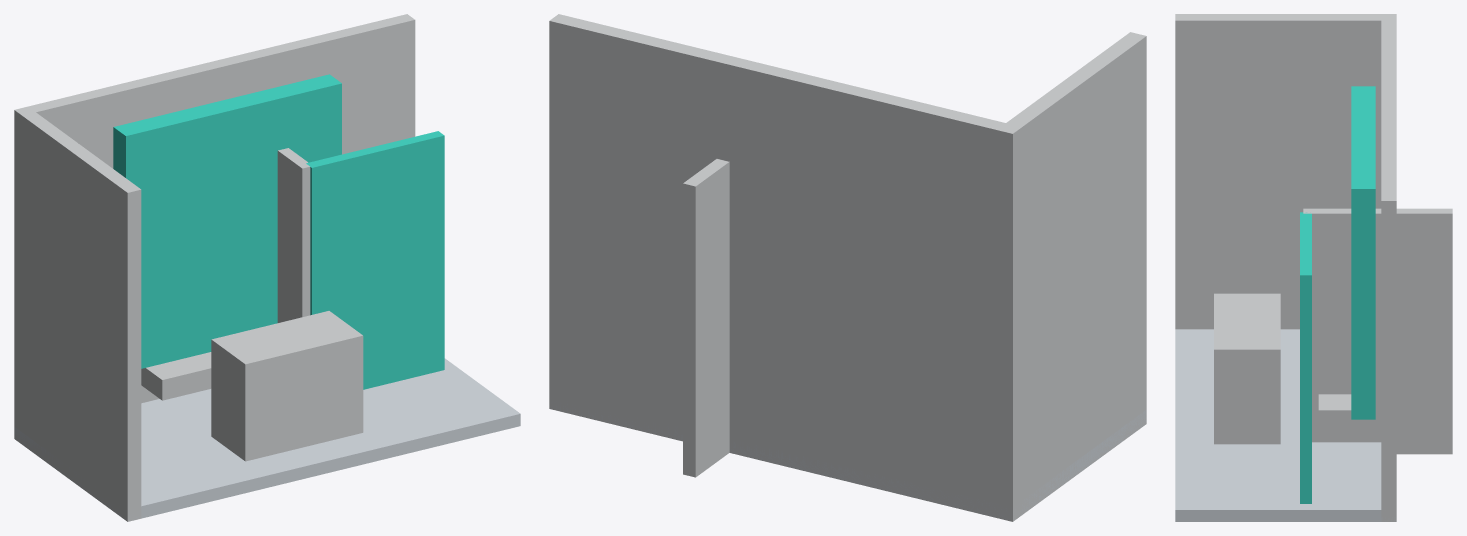
3 renders of one model, left to right at view 1: azimuth 30°, elevation 25°; view 2: azimuth 150°, elevation 25°; view 3: azimuth 270°, elevation 25°, orthographic. The views are drawn at different scales.
Parts seen in each view (by area): view 1: Exhibition Booth Concept; view 2: Exhibition Booth Concept; view 3: Exhibition Booth Concept.
Boxes of the visible parts, x1,y1,x2,y2 form: Exhibition Booth Concept: [14, 14, 520, 521]; Exhibition Booth Concept: [549, 14, 1146, 521]; Exhibition Booth Concept: [1175, 14, 1452, 521].
Size of the model in its own units: 4 by 3.2 by 2.5.
